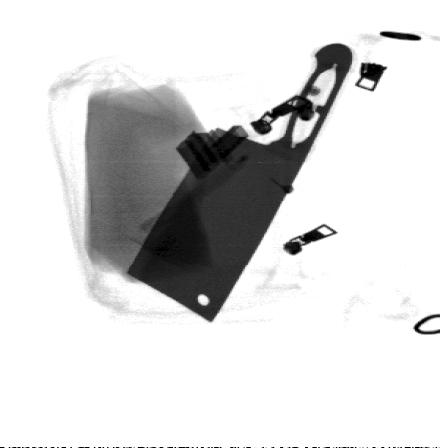Knife: (123, 41, 355, 326)
